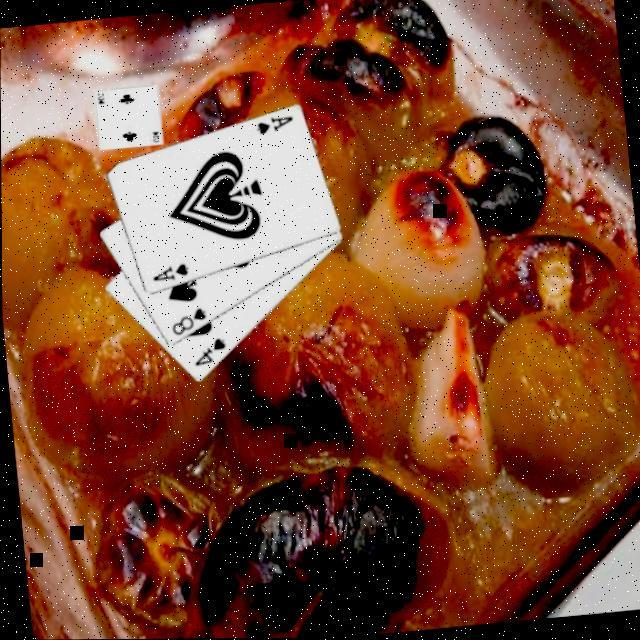4S: (186, 333, 228, 368)
8S: (164, 303, 208, 337)
AS: (248, 111, 294, 137), (145, 258, 189, 284)
